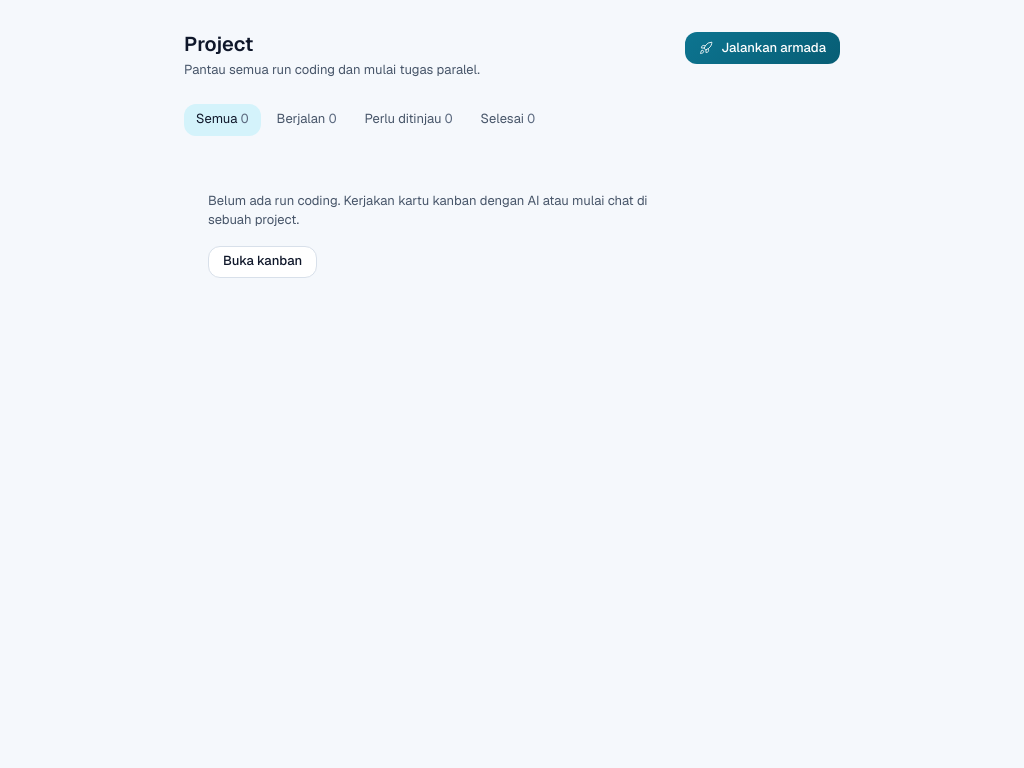
Test case: armada agent › beberapa tugas dikirim sekaligus ke project terpilih; berhasil memberi kabar dan menutup dialog
The width and height of the screenshot is (1024, 768).
Click the button "Jalankan armada" at (763, 48), box [685,32,840,64]
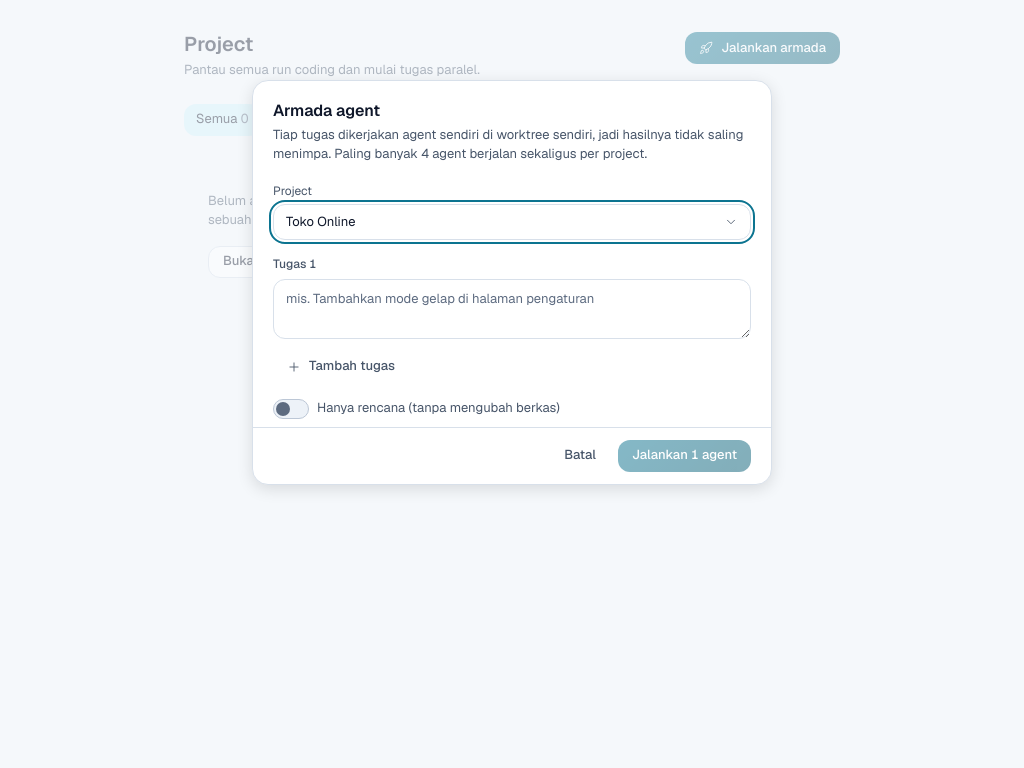
Type "Tambahkan dark mode" into the text box labelled "Tugas 1" at (512, 309), box [273,279,751,339]
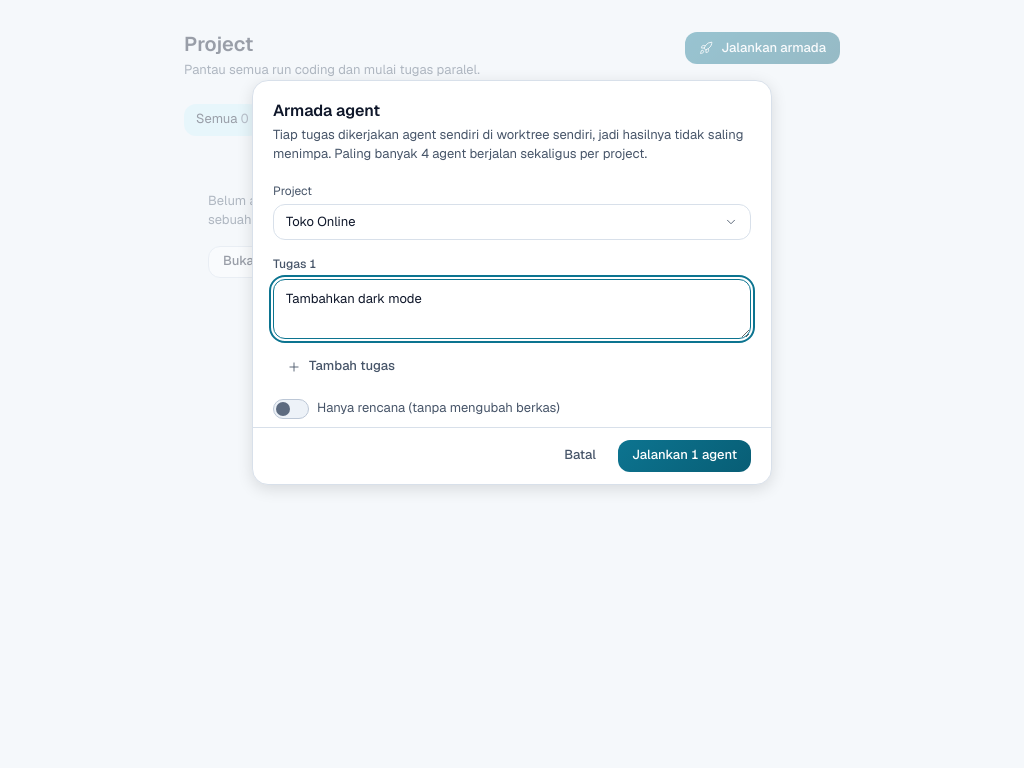
Click the button "Tambah tugas" at (341, 367), box [273,351,409,383]
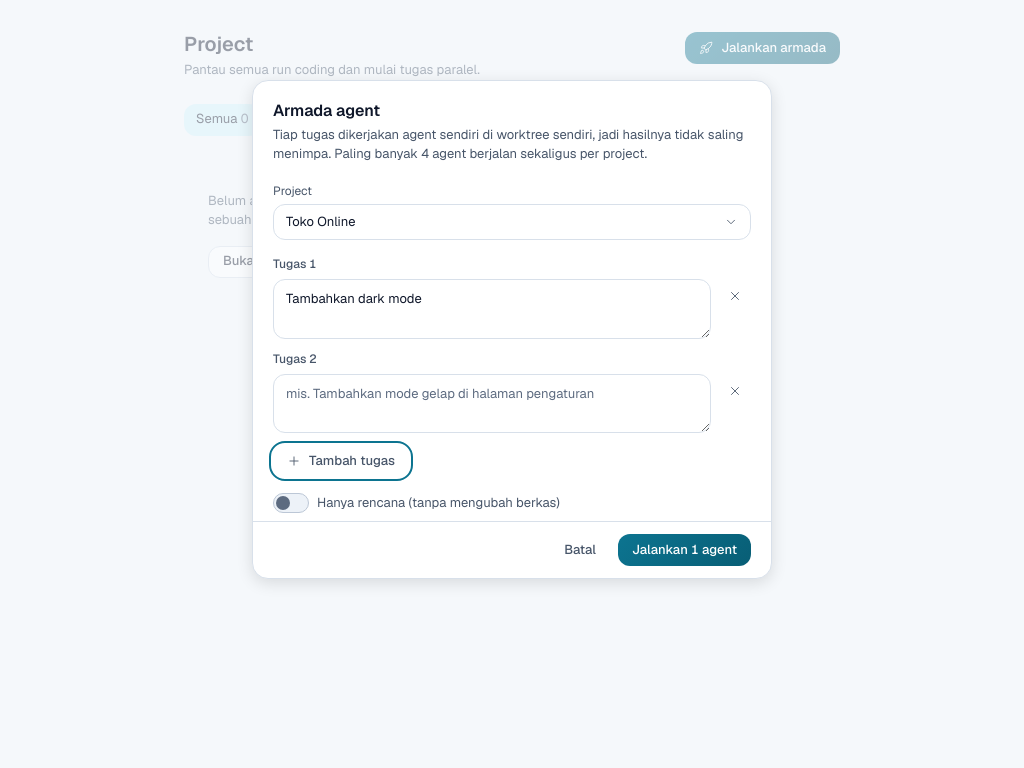
Type "Perbaiki validasi email" into the text box labelled "Tugas 2" at (492, 403), box [273,374,711,433]
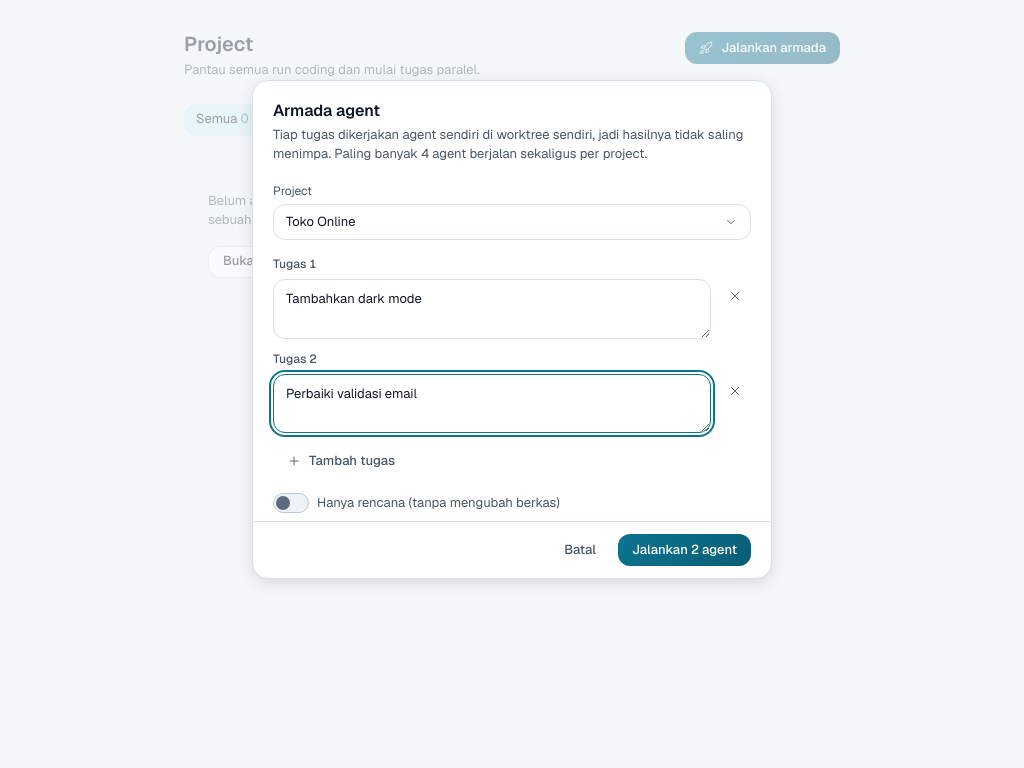
Click the switch named "Hanya rencana (tanpa mengubah berkas)" at (291, 503), box [273,493,309,513]
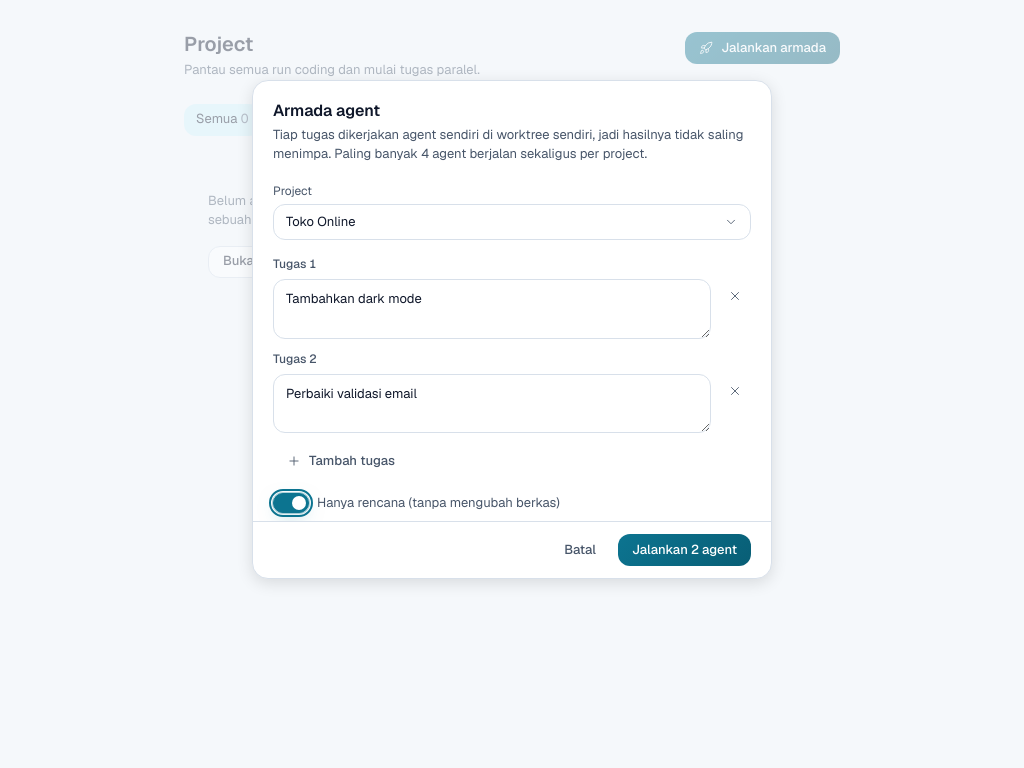
Click the button "Jalankan 2 agent" at (684, 550), box [618,534,751,566]
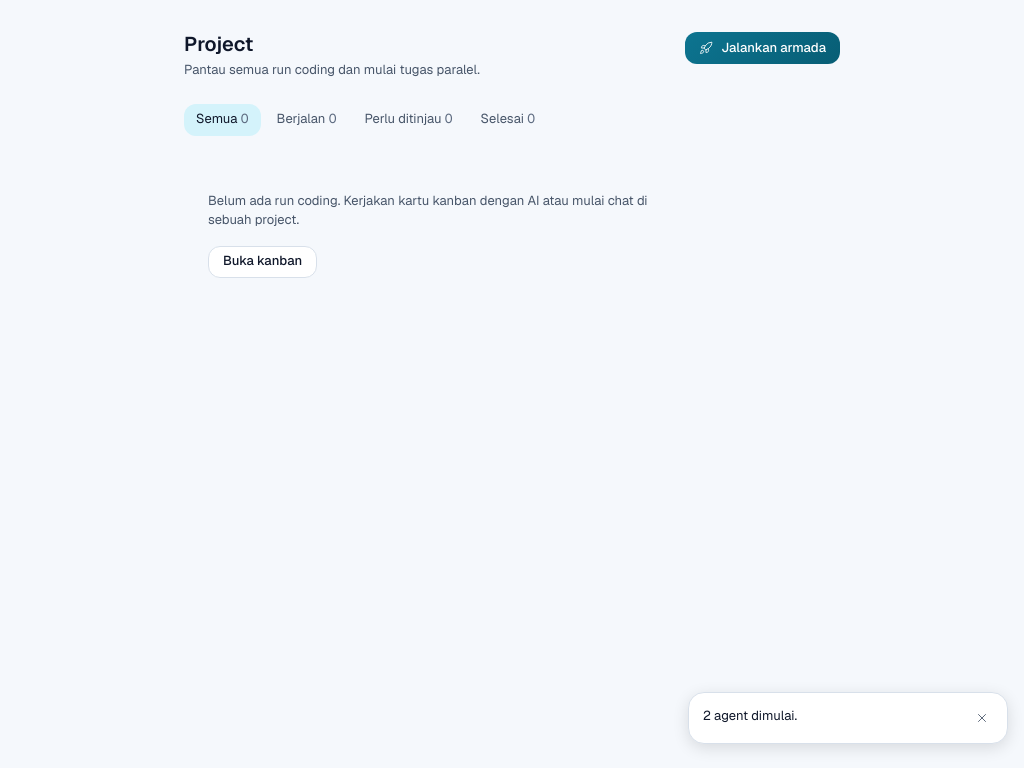
Now the dialog is gone
